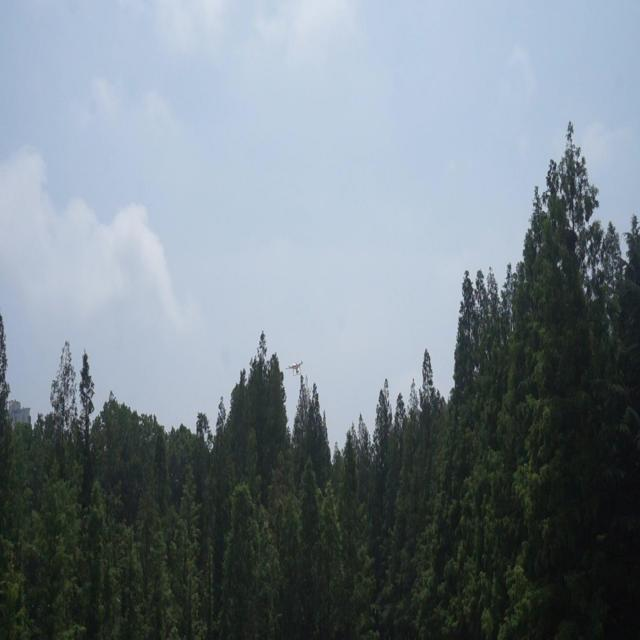UAV: (285, 360, 303, 376)
